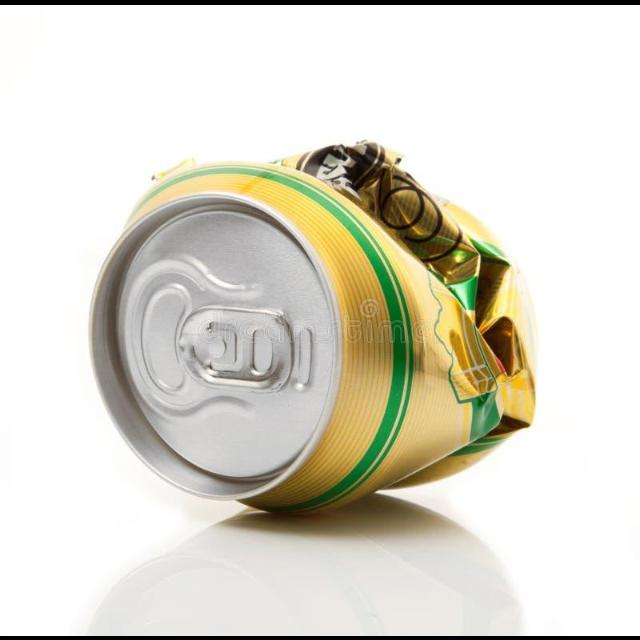aba de lata: (179, 306, 295, 392)
lata: (87, 138, 537, 514)
